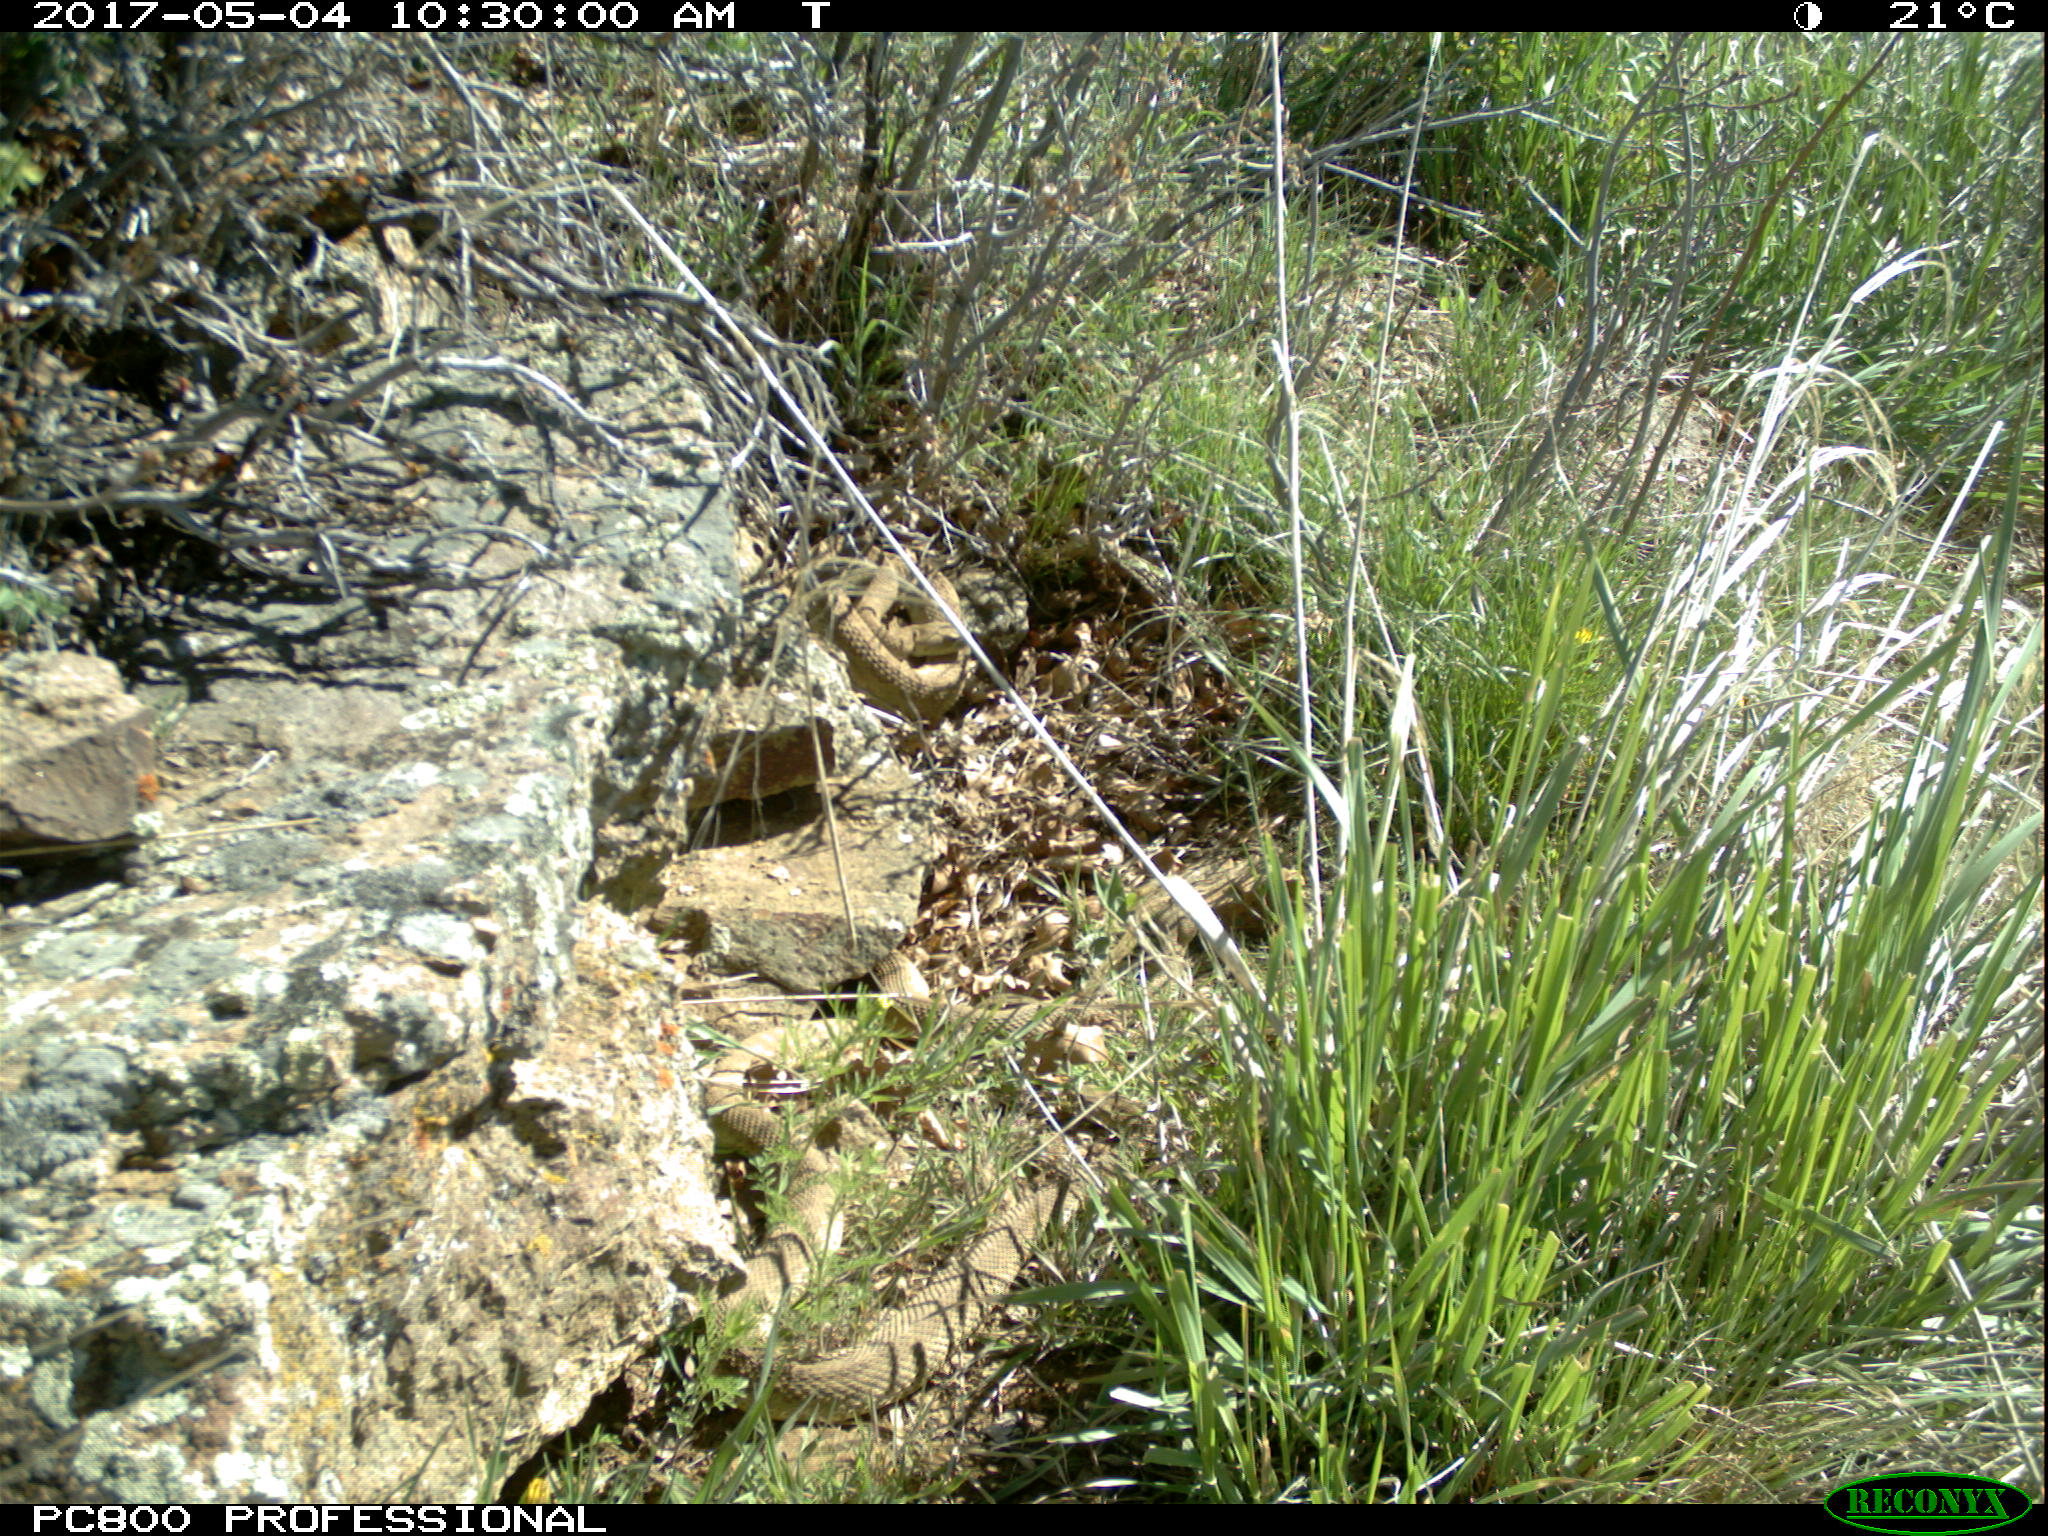snake: (698, 947, 1093, 1433), (808, 536, 997, 724)
